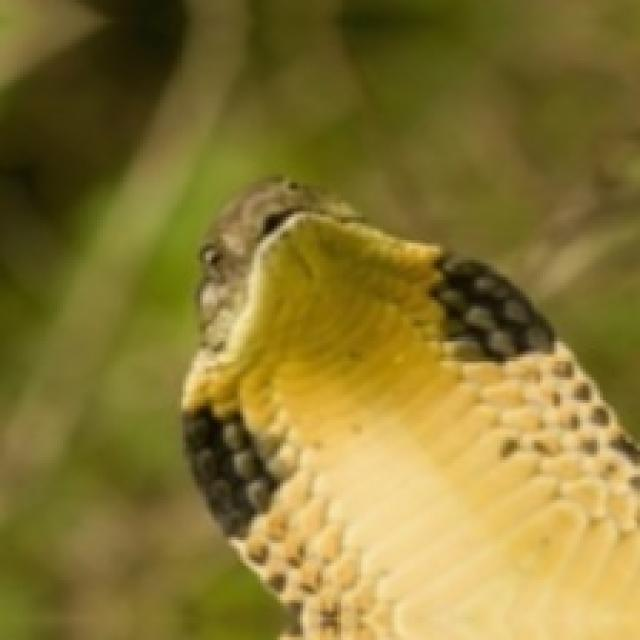king cobra: (183, 180, 637, 637)
